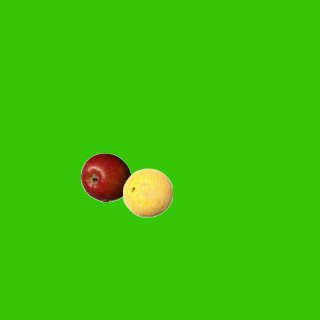Apple Braeburn: (80, 152, 130, 202)
Cantaloupe 1: (122, 167, 172, 217)
